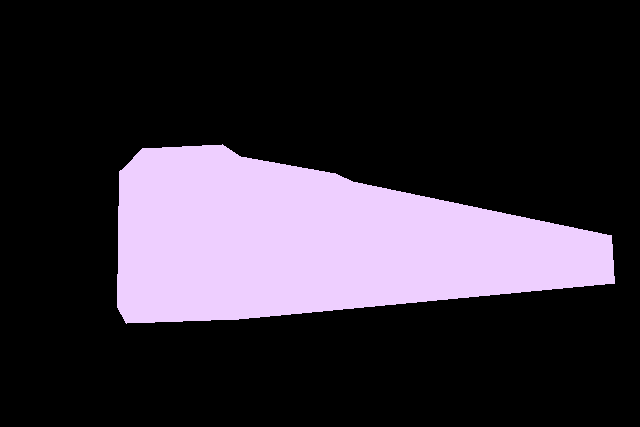Train: (117, 144, 615, 323)
